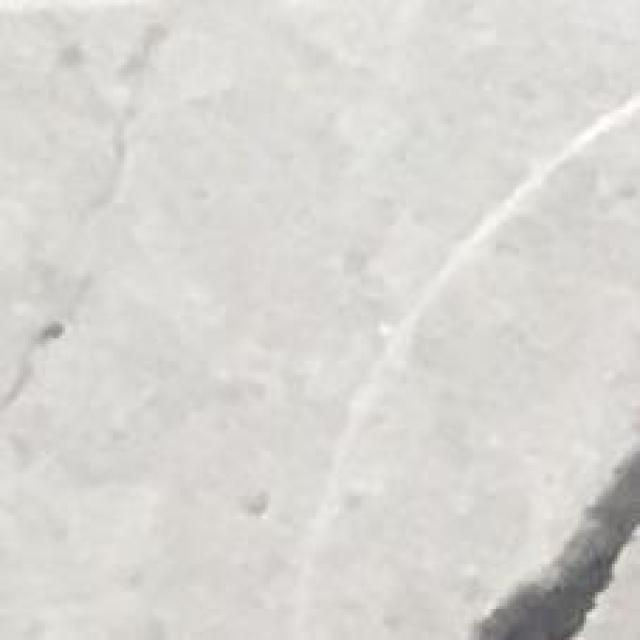Crack: (459, 428, 640, 640), (62, 8, 186, 237), (2, 259, 84, 423)
